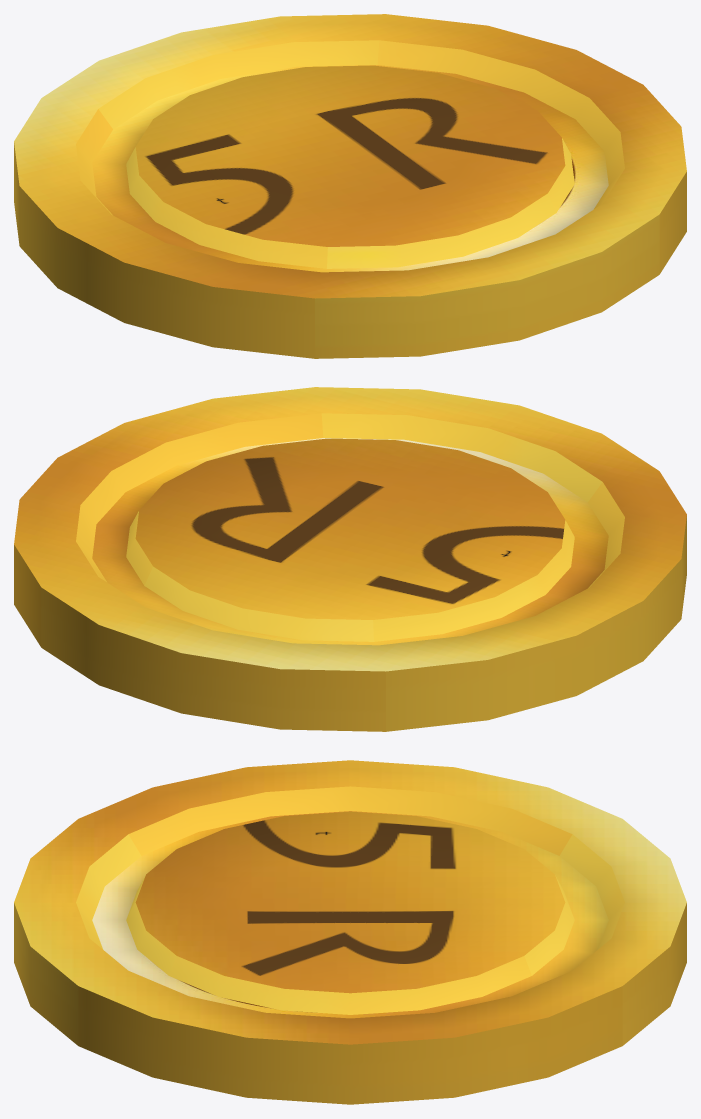
File: coins R5.fbx
3 views of the same model, one above another, from view 1: azimuth 30°, elevation 25°; view 2: azimuth 150°, elevation 25°; view 3: azimuth 270°, elevation 25° (orthographic).
Parts seen in each view (by area): view 1: pCylinder1; view 2: pCylinder1; view 3: pCylinder1.
Part boxes in pixels (x1,y1,x2,y2): pCylinder1: [14, 14, 686, 358]; pCylinder1: [14, 387, 686, 731]; pCylinder1: [14, 760, 686, 1104].
Bounding box in the file's own units: 2.99 × 0.2943 × 2.99.
